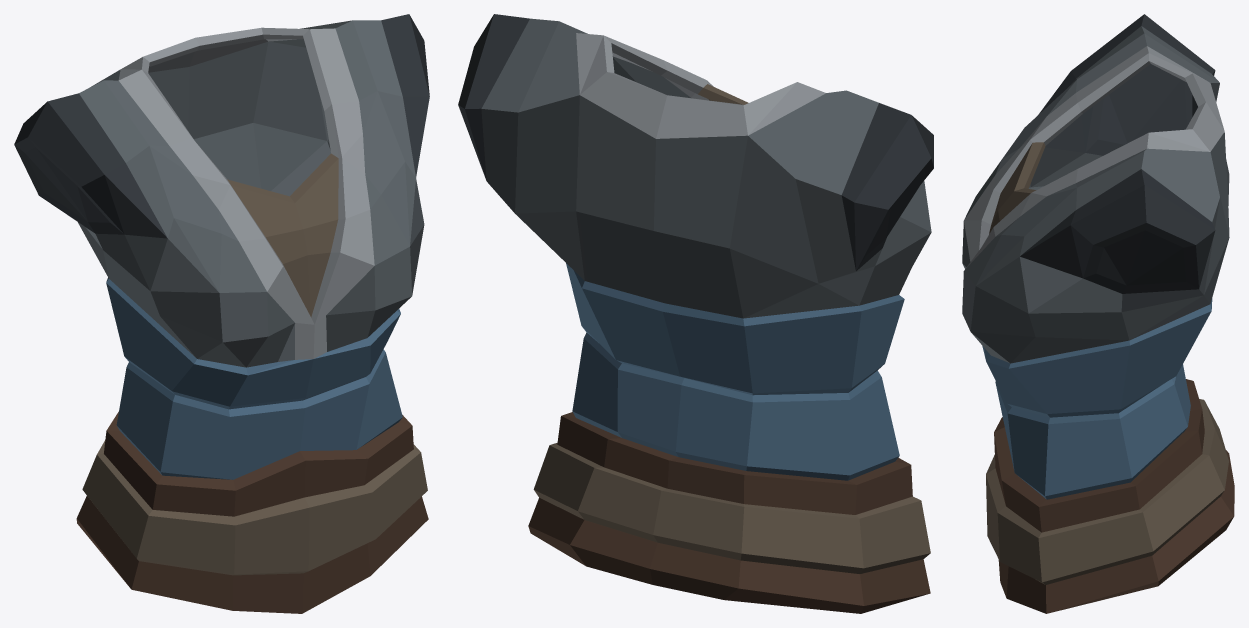
File: Chr_Torso_Female_11_Drop.fbx
The picture shows the model from 3 angles, left to right: view 1: azimuth 30°, elevation 25°; view 2: azimuth 150°, elevation 25°; view 3: azimuth 270°, elevation 25°; orthographic projection. The views are drawn at different scales.
Parts seen in each view (by area): view 1: Chr_Torso_Female_11_Static; view 2: Chr_Torso_Female_11_Static; view 3: Chr_Torso_Female_11_Static.
Boxes of the visible parts, <box> form: Chr_Torso_Female_11_Static: <box>14,14,429,613</box>; Chr_Torso_Female_11_Static: <box>458,14,933,613</box>; Chr_Torso_Female_11_Static: <box>962,14,1234,613</box>.
Size of the model in its own units: 51.72 by 63.46 by 31.95.
